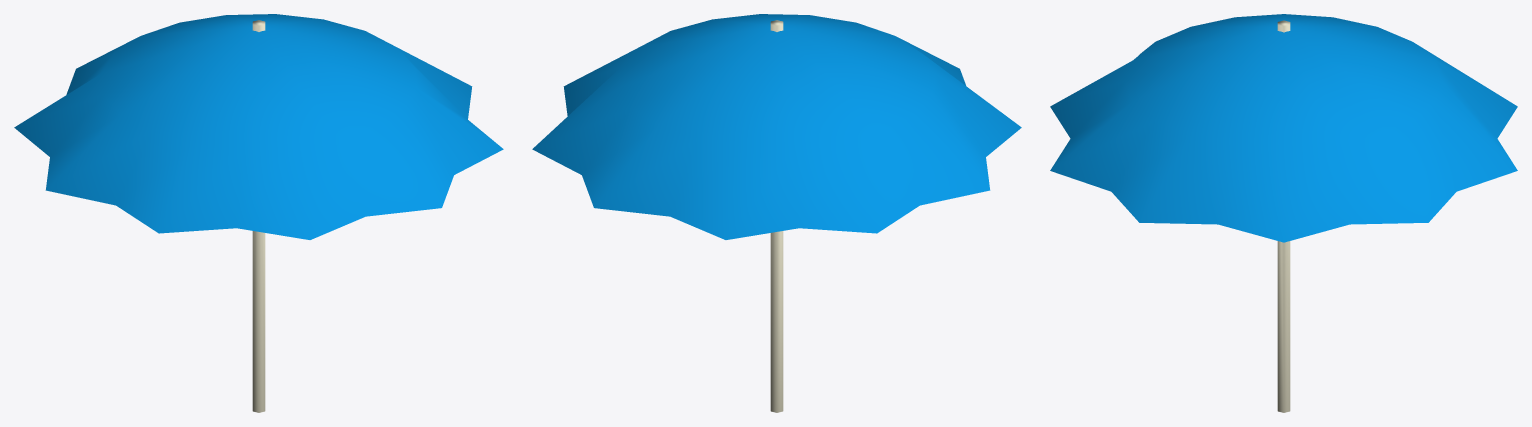
File: Umbrella.glb
3 renders of one model, left to right at view 1: azimuth 30°, elevation 25°; view 2: azimuth 150°, elevation 25°; view 3: azimuth 270°, elevation 25°, orthographic.
Visible parts, largest first — view 1: Null.1; view 2: Null.1; view 3: Null.1.
Boxes of the visible parts, x1,y1,x2,y2 form: Null.1: [14, 14, 503, 412]; Null.1: [532, 14, 1021, 412]; Null.1: [1050, 14, 1517, 412].
Size of the model in its own units: 280 by 243 by 266.
